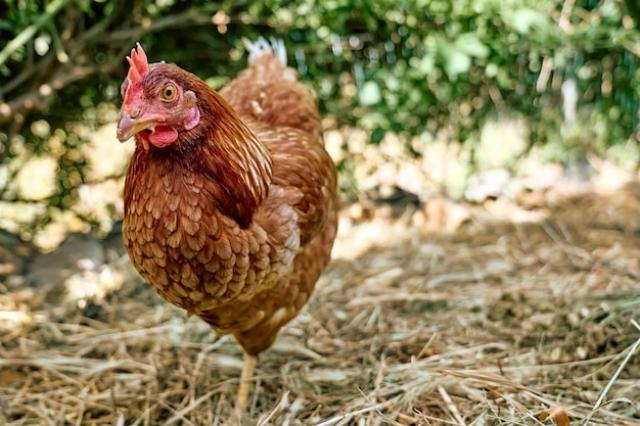Chicken: (118, 43, 340, 414)
